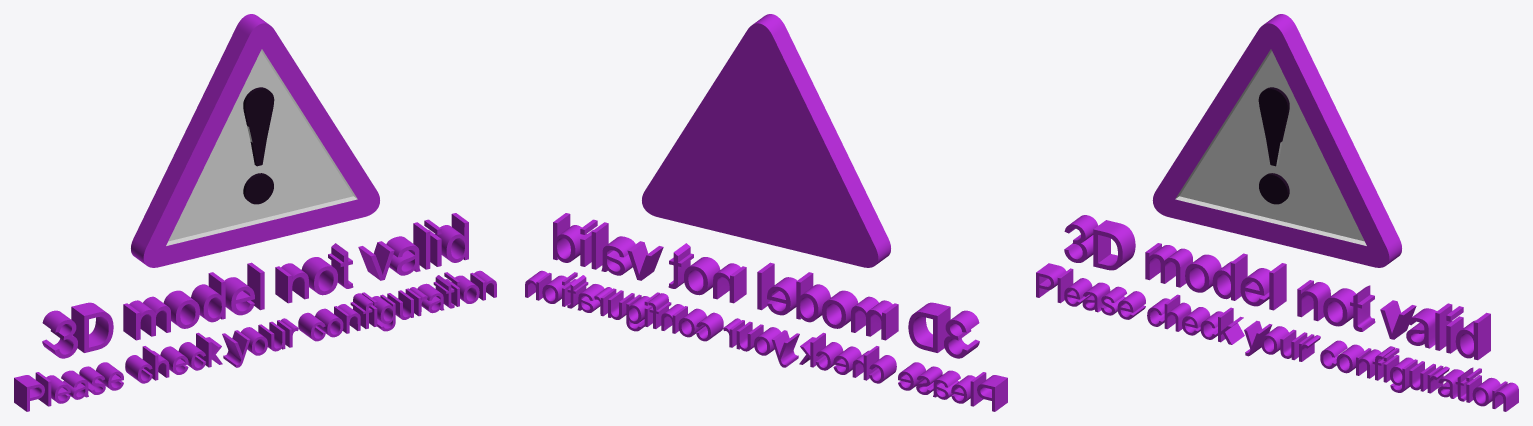
Rendered from warning_sign.obj.
3 views of the same model, side by side, from view 1: azimuth 30°, elevation 25°; view 2: azimuth 150°, elevation 25°; view 3: azimuth 330°, elevation 25° (orthographic).
Visible parts, largest first — view 1: mesh01; view 2: mesh01; view 3: mesh01.
Boxes of the visible parts, bbox=[...] form: mesh01: bbox=[14, 14, 496, 411]; mesh01: bbox=[525, 14, 1007, 411]; mesh01: bbox=[1036, 14, 1518, 411].
Bounding box in the file's own units: 25.03 × 17.21 × 1.18.
